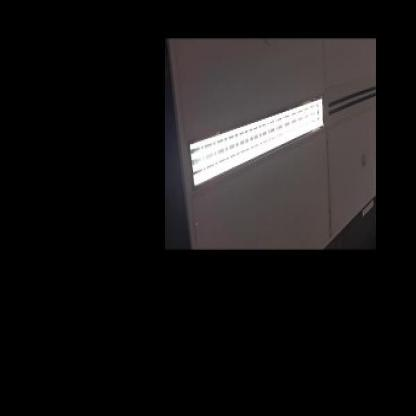light_on: (188, 90, 330, 195)
